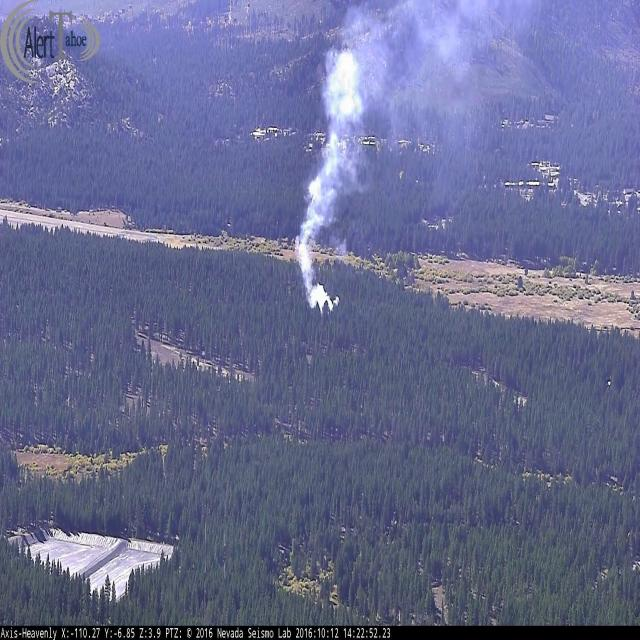smoke: (301, 39, 366, 317)
